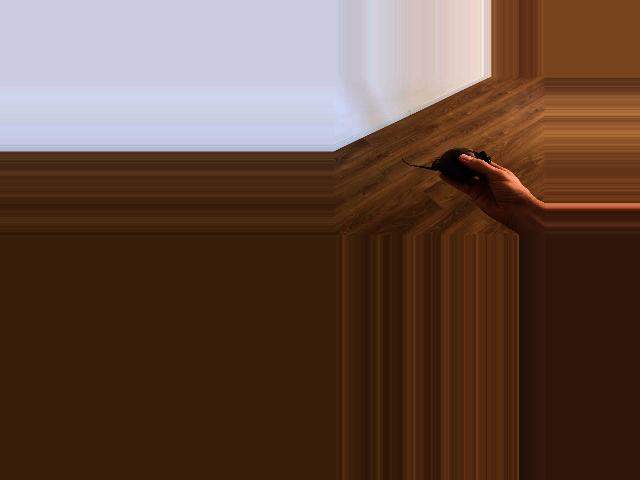beet: (401, 148, 490, 180)
